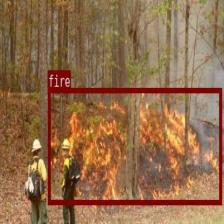fire: (48, 87, 221, 204)
